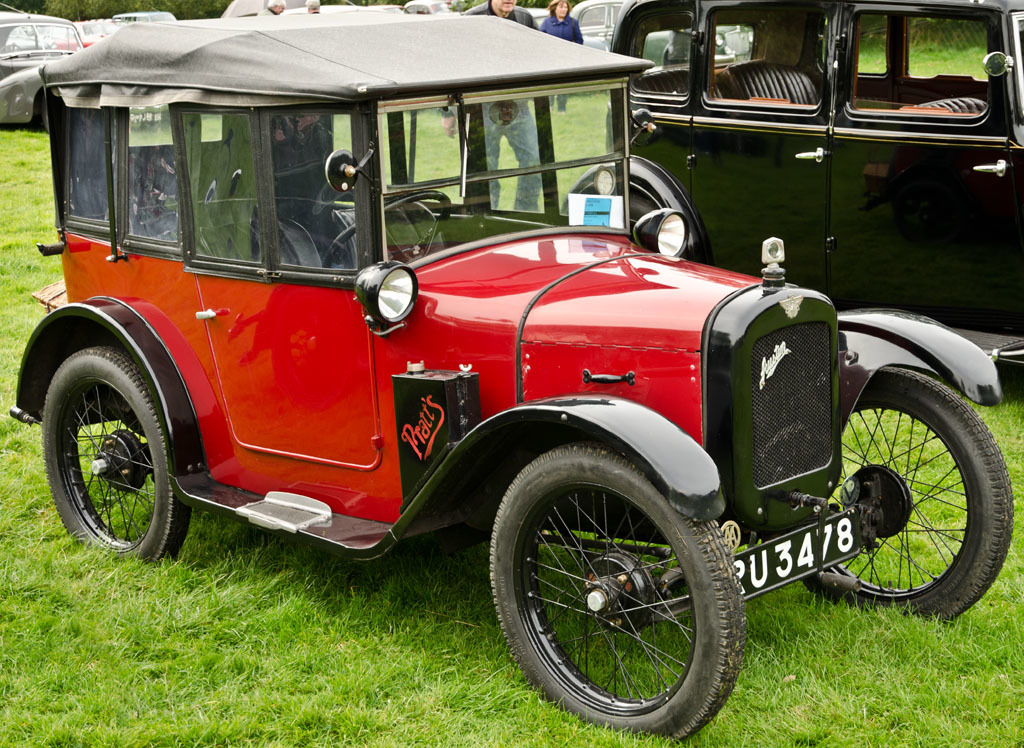Car: (0, 92, 961, 714), (561, 0, 1022, 367), (567, 1, 755, 69), (0, 0, 92, 126), (51, 20, 124, 52), (108, 12, 181, 33), (408, 0, 464, 22), (526, 4, 551, 32)
